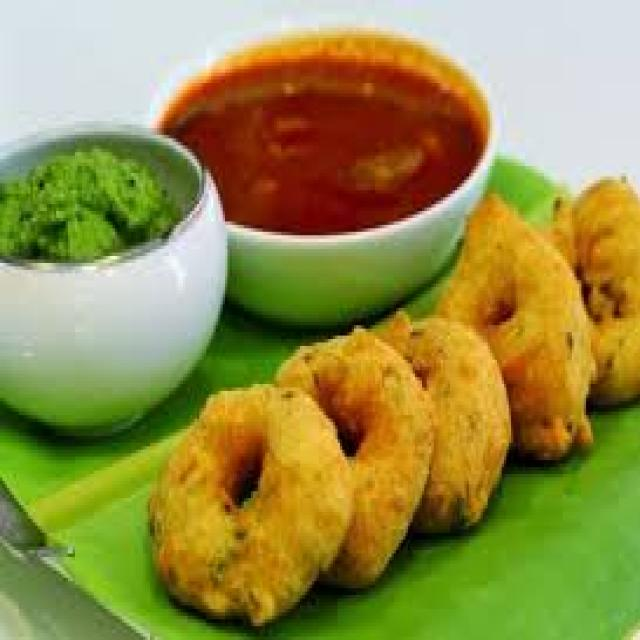MEDU VADA: (150, 378, 350, 633), (277, 331, 438, 593), (446, 190, 599, 463), (378, 323, 512, 531)
SAMOSA: (166, 419, 195, 453)
